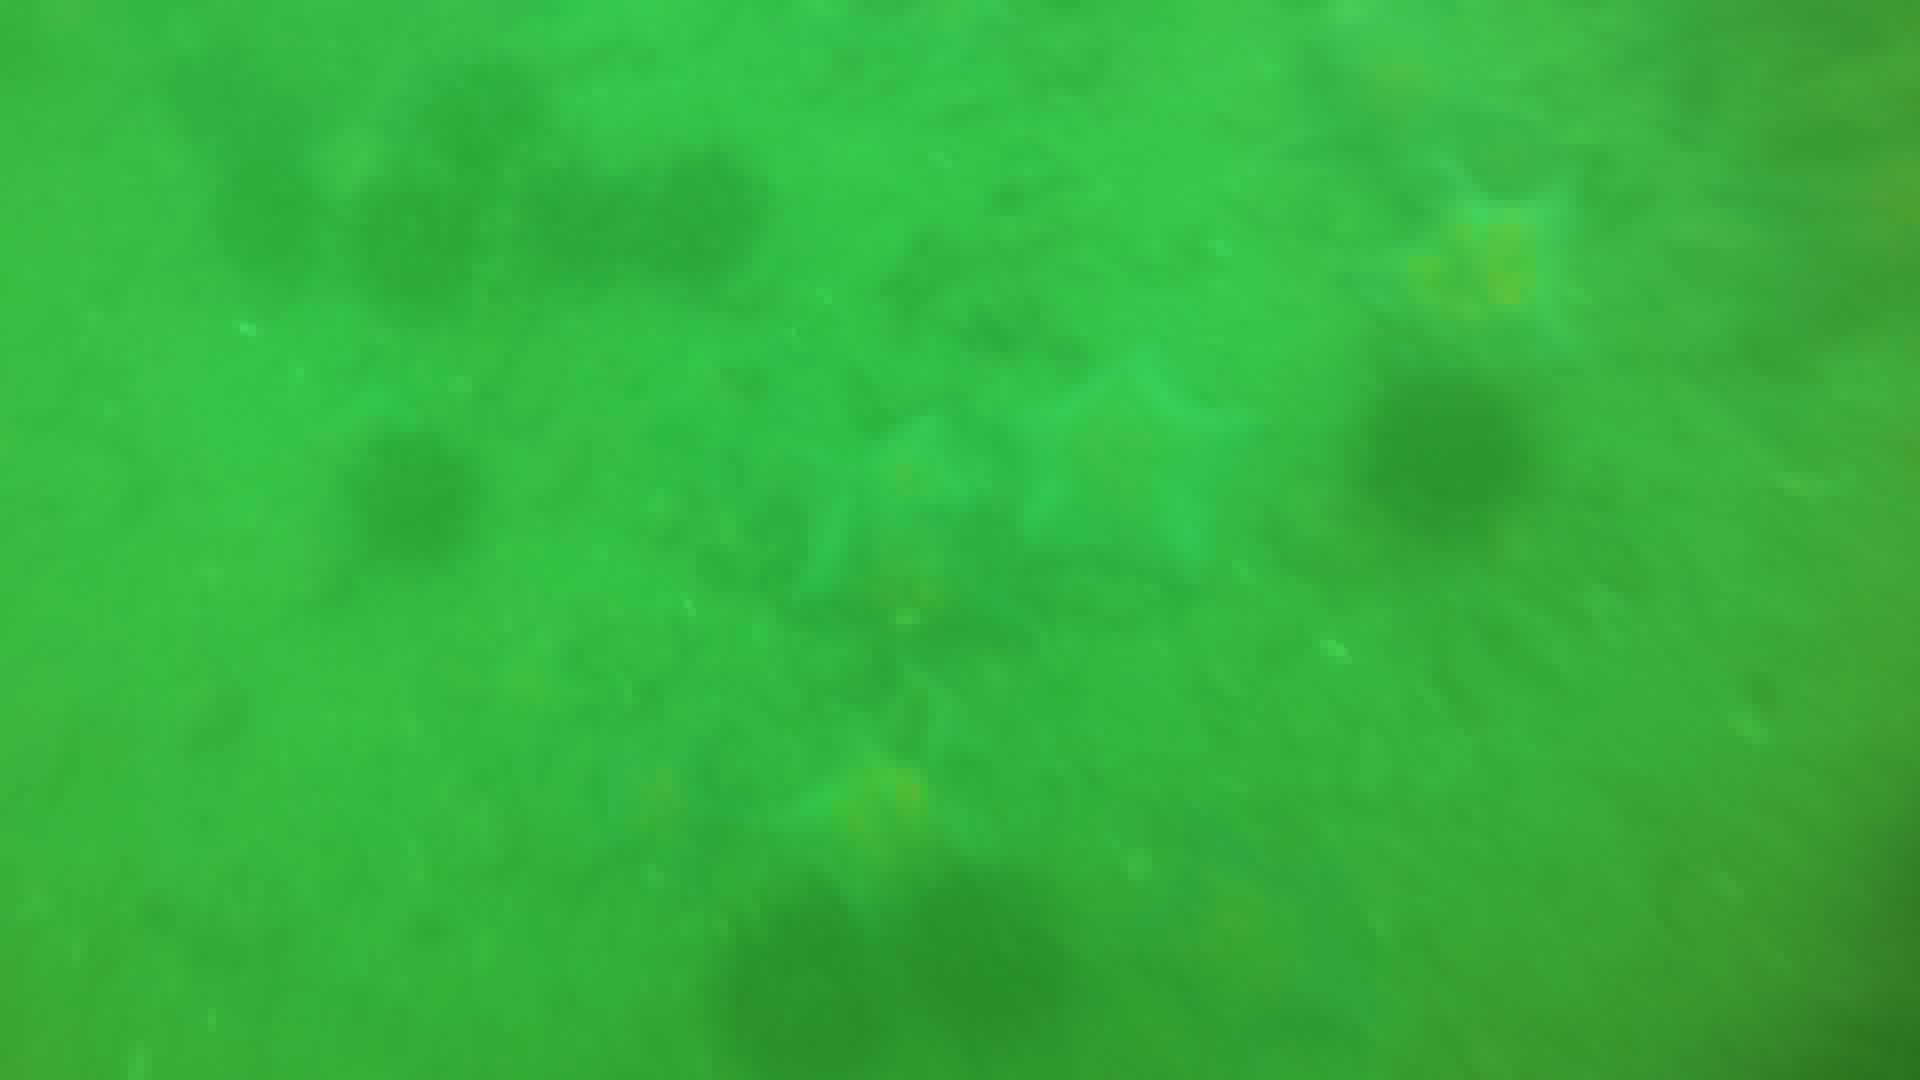echinus: (1356, 369, 1515, 538), (910, 893, 1077, 1051), (150, 11, 335, 142), (729, 945, 876, 1080), (404, 44, 535, 138), (349, 170, 462, 280), (200, 158, 310, 268), (371, 438, 476, 538), (675, 157, 764, 260)
starfish: (978, 342, 1257, 568), (1336, 156, 1604, 368), (1142, 839, 1385, 1054), (746, 741, 1014, 918), (775, 409, 981, 609), (596, 729, 727, 872)
